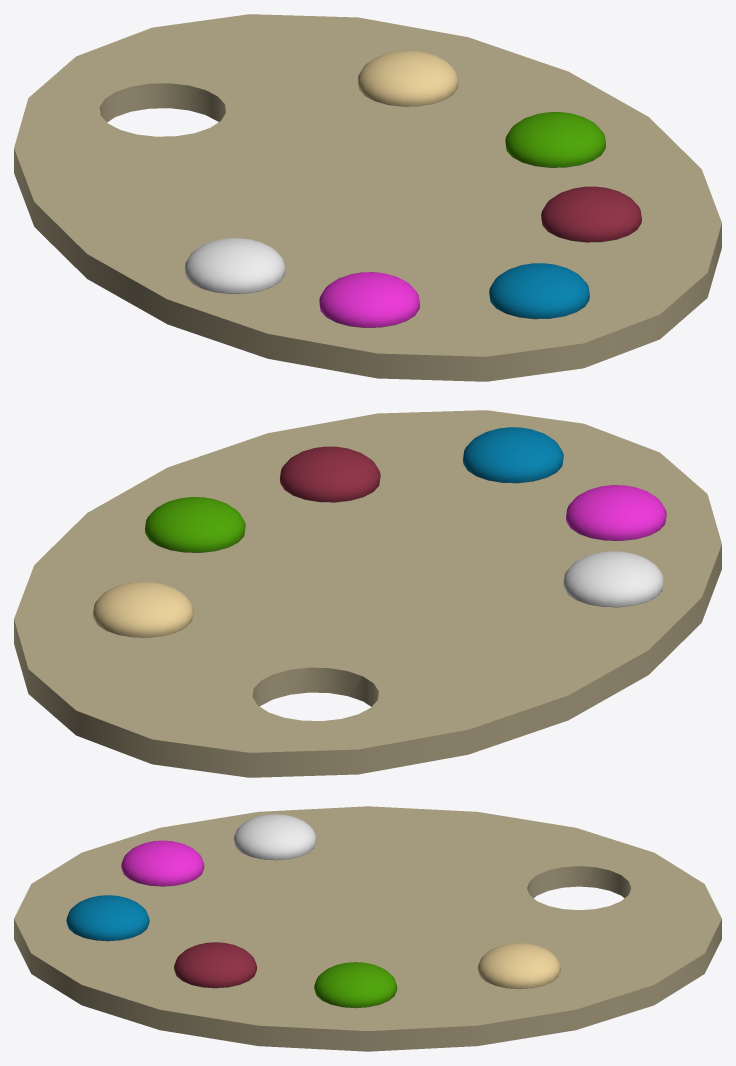
The model's file is Paintboard.fbx.
3 renders of one model, top to bottom at view 1: azimuth 30°, elevation 25°; view 2: azimuth 150°, elevation 25°; view 3: azimuth 270°, elevation 25°, orthographic. The views are drawn at different scales.
Visible parts, largest first — view 1: pCylinder13; view 2: pCylinder13; view 3: pCylinder13.
Part boxes in pixels (bbox=[...]): pCylinder13: bbox=[14, 14, 721, 381]; pCylinder13: bbox=[14, 410, 721, 777]; pCylinder13: bbox=[14, 806, 721, 1051].
Bounding box in the file's own units: 5.29 × 0.4638 × 7.03.
